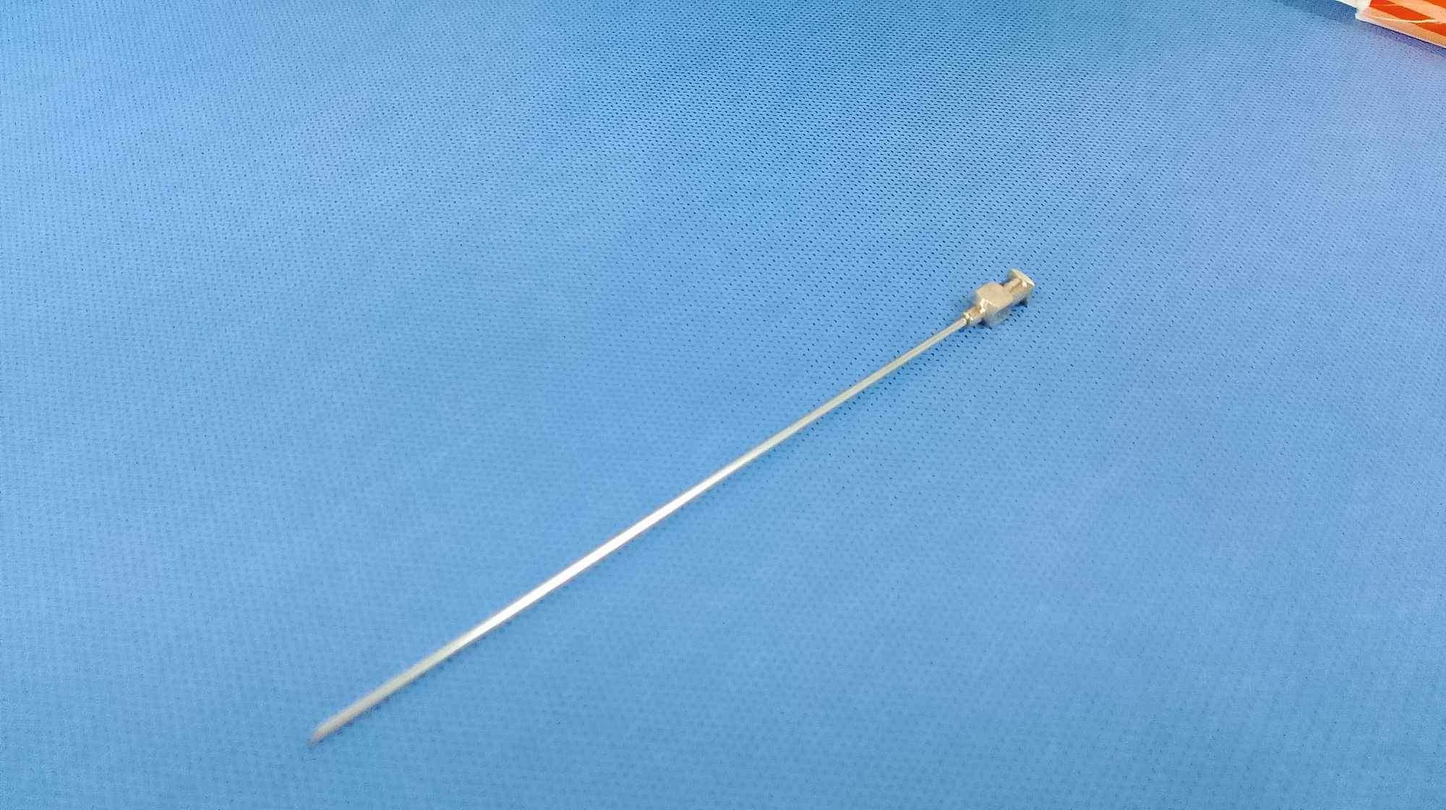Infectious: (962, 267, 1035, 328)
Pathological: (6, 3, 1439, 804)
Sharps: (307, 265, 1035, 746)
